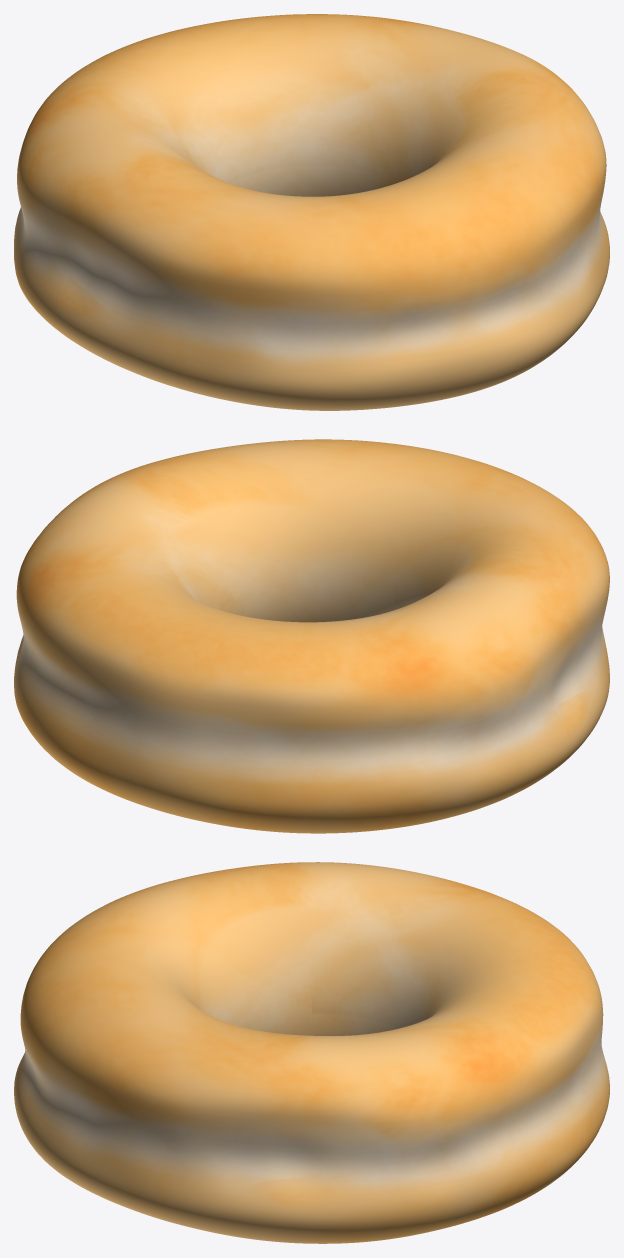
File: donutModel.glb
The picture shows the model from 3 angles, top to bottom: view 1: azimuth 30°, elevation 25°; view 2: azimuth 150°, elevation 25°; view 3: azimuth 270°, elevation 25°; orthographic projection. The views are drawn at different scales.
Parts seen in each view (by area): view 1: Donut; view 2: Donut; view 3: Donut.
Boxes of the visible parts, x1=… form: Donut: x1=14, y1=14, x2=609, y2=410; Donut: x1=14, y1=439, x2=609, y2=833; Donut: x1=14, y1=862, x2=609, y2=1243.
Bounding box in the file's own units: 0.113 × 0.0421 × 0.1167.
Materials: 1 (1 with a texture image).
